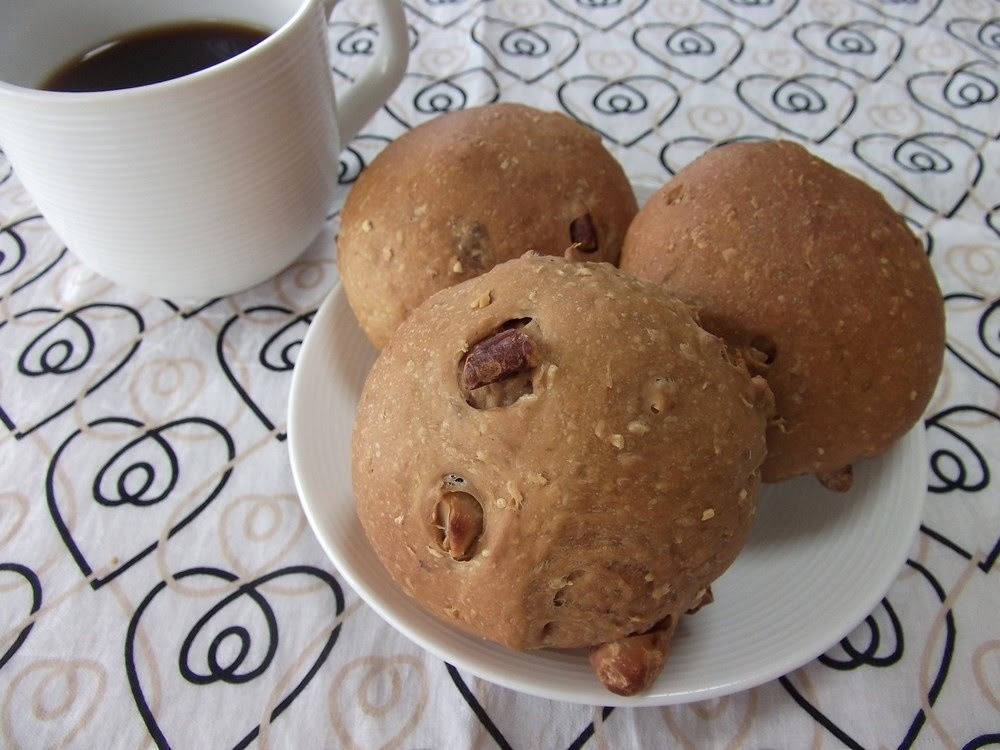background: (56, 29, 423, 112)
